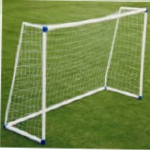goals: (4, 5, 149, 145)
